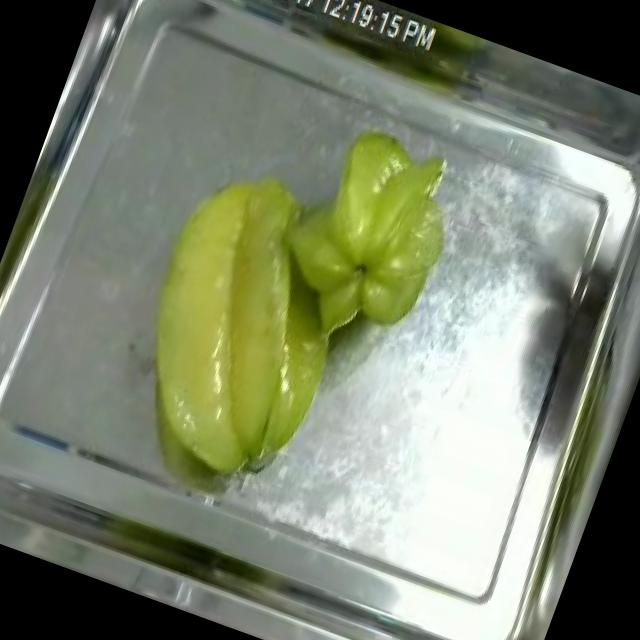fruit: (85, 134, 397, 514), (278, 105, 484, 347)
